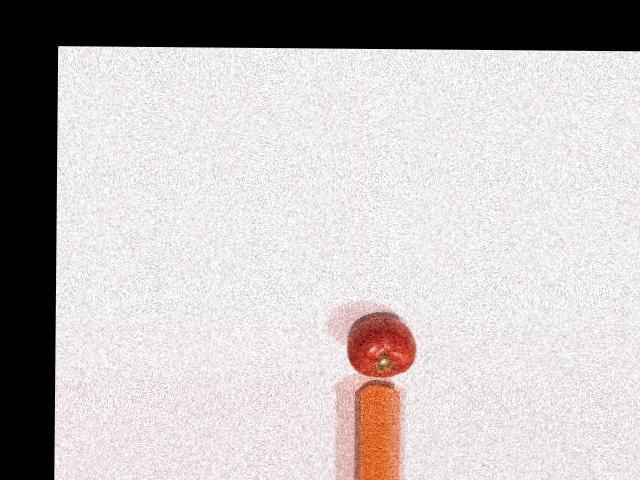tomato: (347, 316, 417, 377)
